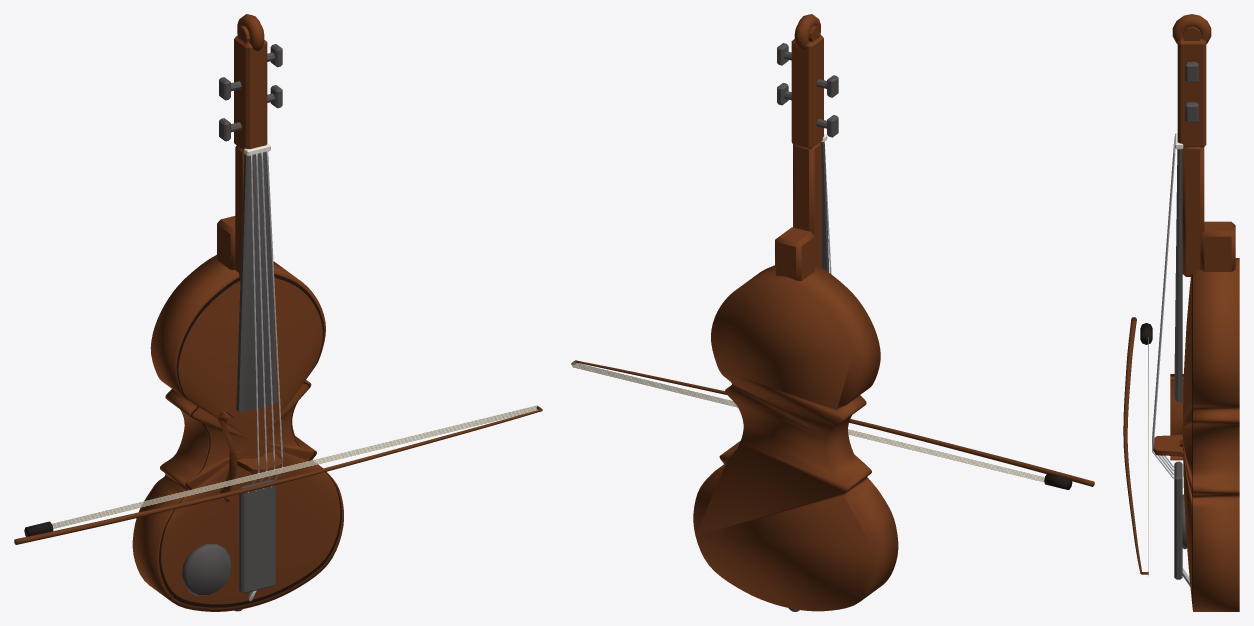
The model's file is violin.glb.
The picture shows the model from 3 angles, left to right: view 1: azimuth 30°, elevation 25°; view 2: azimuth 150°, elevation 25°; view 3: azimuth 270°, elevation 25°; orthographic projection. The views are drawn at different scales.
Visible parts, largest first — view 1: Violin_Body, Violin_Bow, Violin_String_E5, Violin_String_G3, Violin_String_D4, Violin_String_A4; view 2: Violin_Body, Violin_Bow; view 3: Violin_Body, Violin_Bow, Violin_String_E5, Violin_String_A4, Violin_String_D4, Violin_String_G3.
Boxes of the visible parts, box(x1,y1,x2,y2) form: Violin_Body: box(132, 14, 343, 611); Violin_Bow: box(14, 405, 542, 544); Violin_String_E5: box(266, 148, 283, 487); Violin_String_G3: box(248, 152, 259, 492); Violin_String_D4: box(255, 151, 267, 490); Violin_String_A4: box(261, 149, 275, 488); Violin_Body: box(693, 14, 898, 611); Violin_Bow: box(571, 360, 1094, 489); Violin_Body: box(1153, 14, 1239, 611); Violin_Bow: box(1123, 317, 1152, 576); Violin_String_E5: box(1152, 144, 1175, 478); Violin_String_A4: box(1152, 141, 1174, 474); Violin_String_D4: box(1152, 139, 1174, 471); Violin_String_G3: box(1152, 136, 1174, 467).
Bounding box in the file's own units: 3.68 × 4 × 0.7107.
